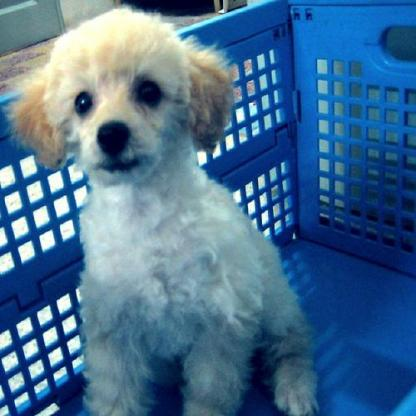toy_poodle: (9, 6, 320, 414)
